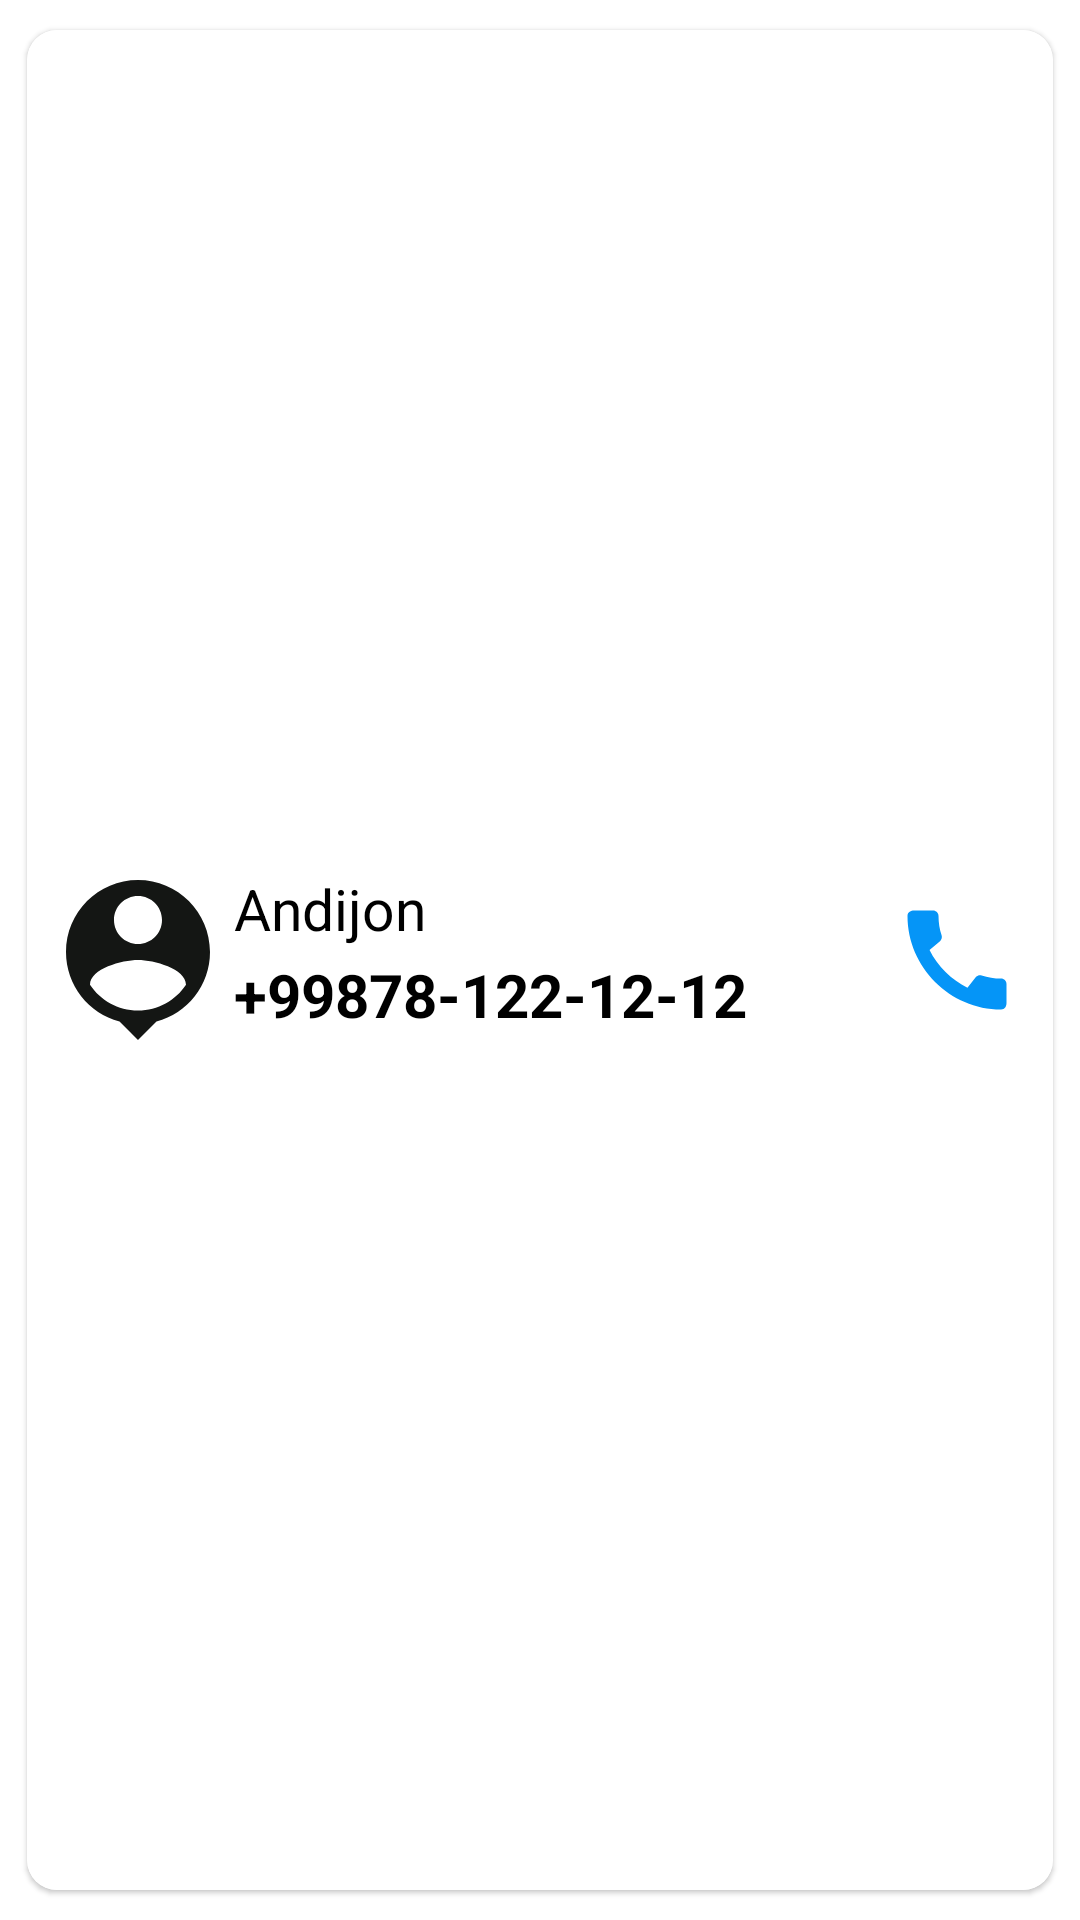

Screen size 1080×1920. Icon name, then its box in pixels as {"x1": x1, "y1": y1, "x2": x2, "y2": y2}:
call: {"x1": 907, "y1": 910, "x2": 1007, "y2": 1010}
person: {"x1": 66, "y1": 880, "x2": 210, "y2": 1040}
